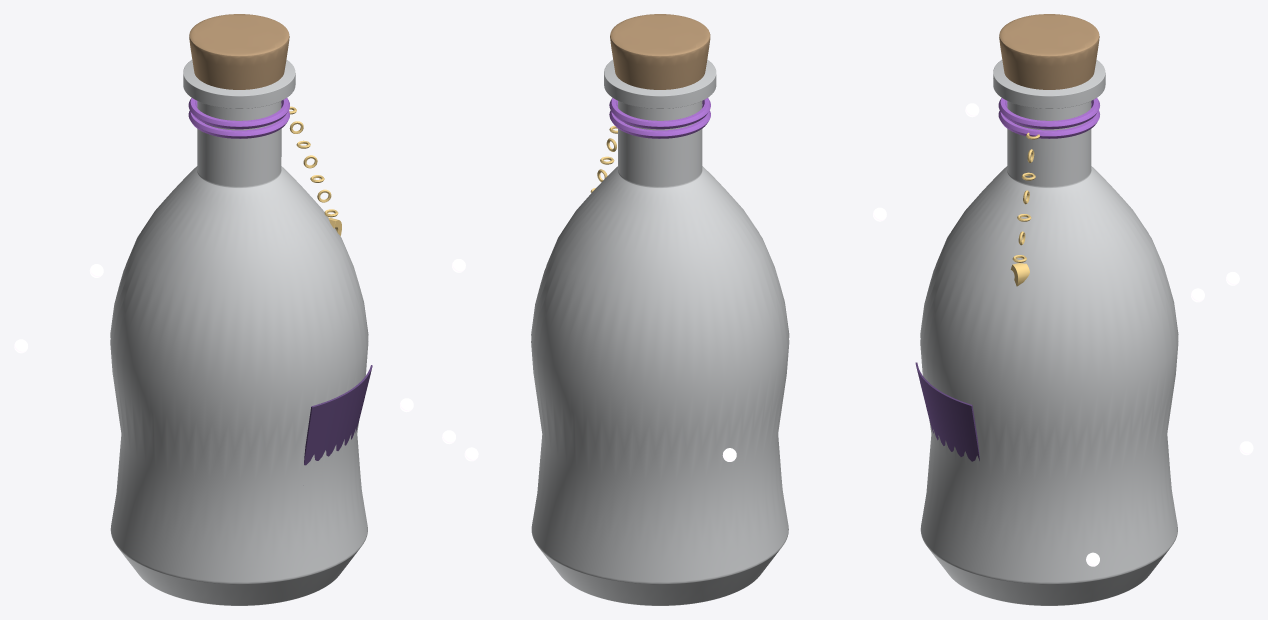
File: mysterypotion.glb
The picture shows the model from 3 angles, left to right: view 1: azimuth 30°, elevation 25°; view 2: azimuth 150°, elevation 25°; view 3: azimuth 270°, elevation 25°; orthographic projection.
Parts seen in each view (by area): view 1: MysteryPotion_Glass, MysteryPotion_Cork, MysteryPotion_Label, MysteryPotion_String.001, MysteryPotion_String; view 2: MysteryPotion_Glass, MysteryPotion_Cork, MysteryPotion_String.001, MysteryPotion_String; view 3: MysteryPotion_Glass, MysteryPotion_Cork, MysteryPotion_Label, MysteryPotion_String.001, MysteryPotion_String.
Part boxes in pixels (x1=…): MysteryPotion_Glass: x1=110, y1=59, x2=368, y2=605; MysteryPotion_Cork: x1=189, y1=14, x2=289, y2=89; MysteryPotion_Label: x1=304, y1=365, x2=372, y2=465; MysteryPotion_String.001: x1=188, y1=98, x2=289, y2=129; MysteryPotion_String: x1=188, y1=103, x2=289, y2=138; MysteryPotion_Glass: x1=531, y1=60, x2=789, y2=605; MysteryPotion_Cork: x1=610, y1=14, x2=710, y2=89; MysteryPotion_String.001: x1=609, y1=98, x2=710, y2=129; MysteryPotion_String: x1=609, y1=104, x2=710, y2=138; MysteryPotion_Glass: x1=920, y1=59, x2=1178, y2=605; MysteryPotion_Cork: x1=999, y1=14, x2=1099, y2=89; MysteryPotion_Label: x1=915, y1=362, x2=979, y2=461; MysteryPotion_String.001: x1=998, y1=98, x2=1099, y2=129; MysteryPotion_String: x1=998, y1=103, x2=1099, y2=138.
Bounding box in the file's own units: 1.88 × 2.48 × 1.44.
